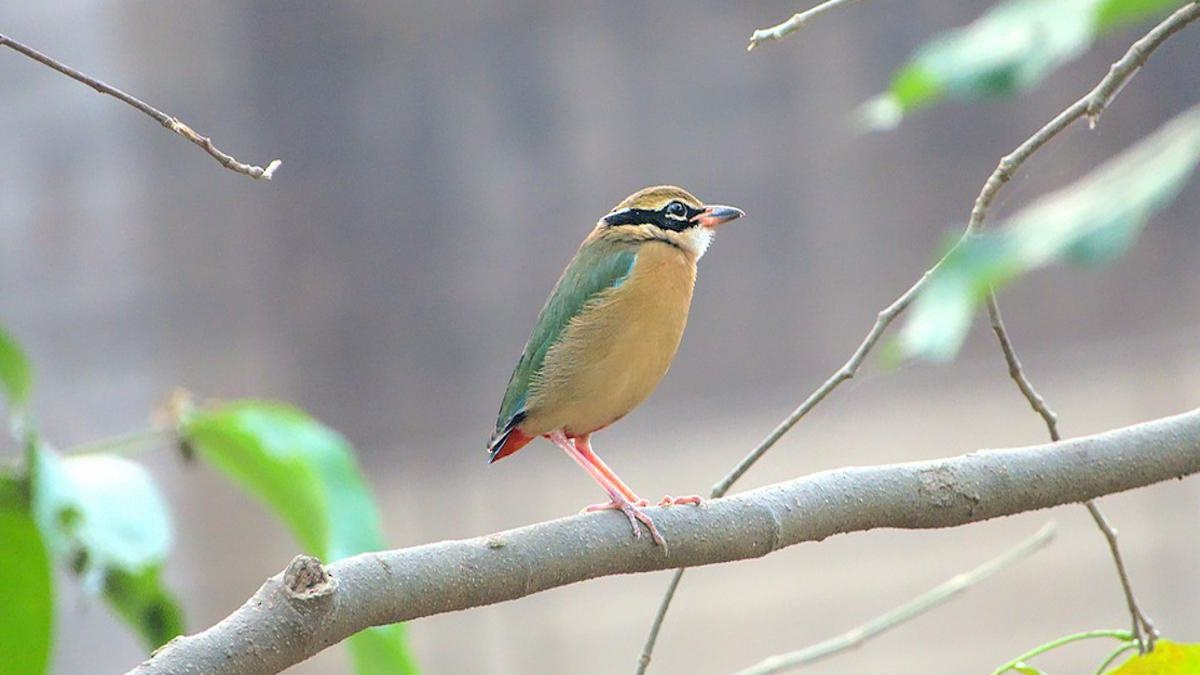pitta: (480, 153, 771, 551)
